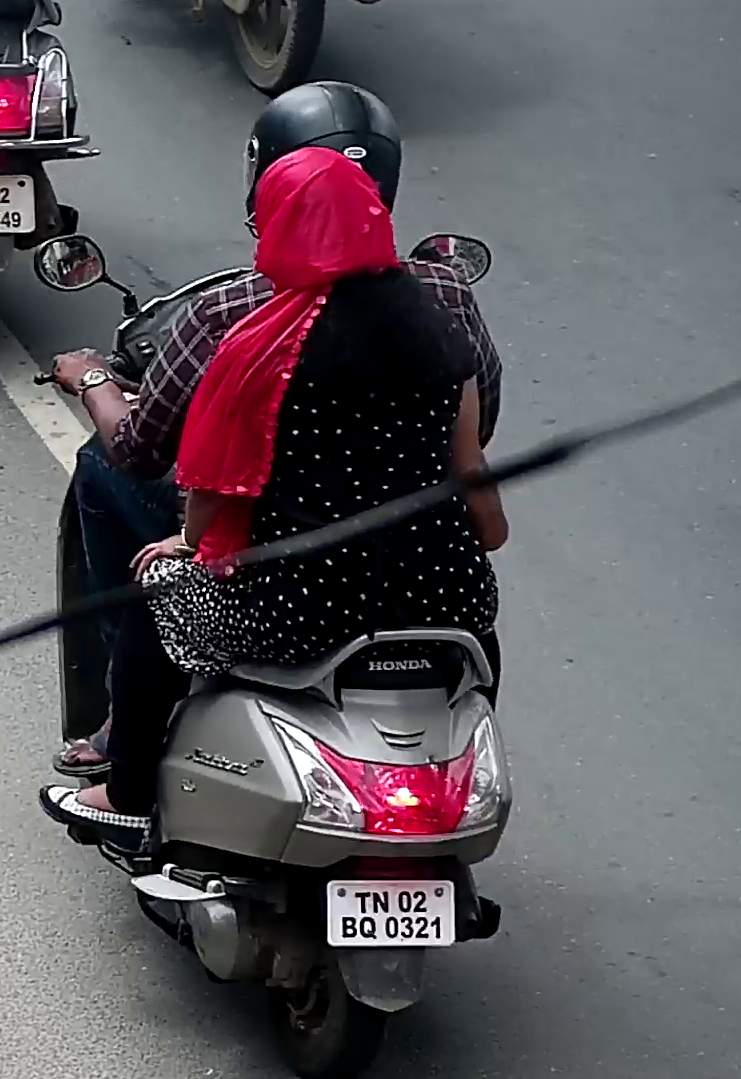0: (398, 890, 412, 913), (385, 916, 399, 939)
1: (430, 915, 441, 939)
2: (412, 889, 427, 913), (414, 916, 429, 939)
3: (399, 916, 414, 938)
B: (341, 916, 358, 939)
N: (372, 890, 389, 914)
P16: (324, 878, 457, 948)
Q: (358, 915, 378, 940)
T: (354, 891, 371, 914)
